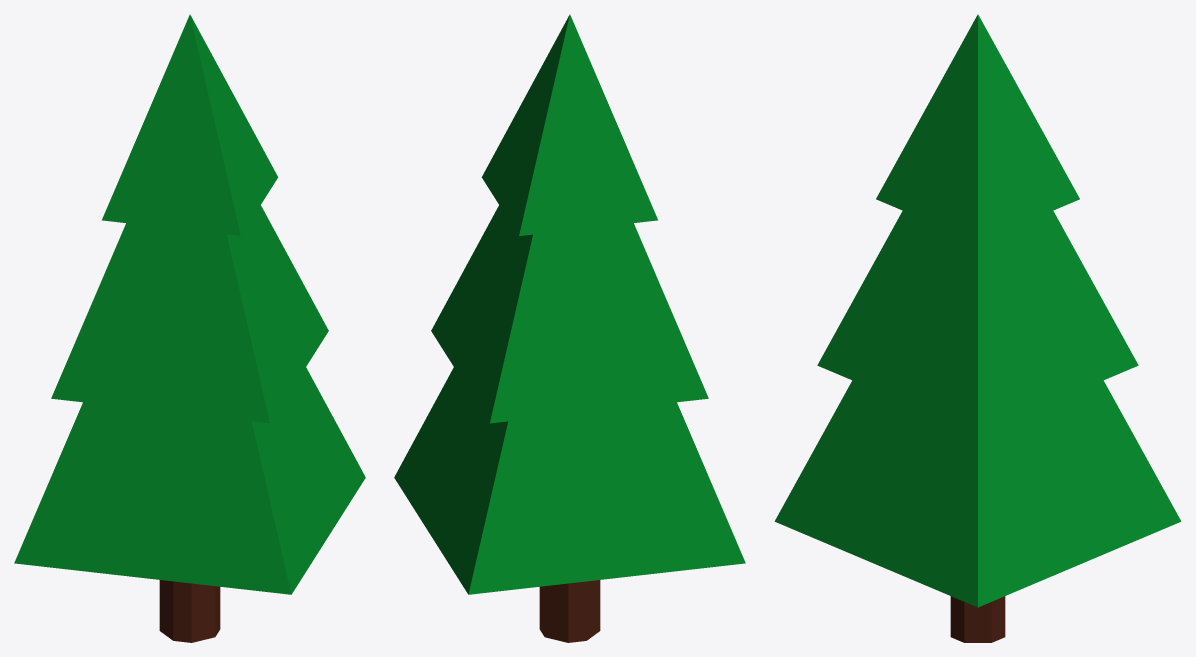
Rendered from Tree1.fbx.
3 renders of one model, left to right at view 1: azimuth 30°, elevation 25°; view 2: azimuth 150°, elevation 25°; view 3: azimuth 270°, elevation 25°, orthographic.
Parts seen in each view (by area): view 1: Tree1; view 2: Tree1; view 3: Tree1.
Part boxes in pixels (left/top/right/bottom): Tree1: left=14, top=14, right=365, bottom=642; Tree1: left=394, top=14, right=745, bottom=642; Tree1: left=774, top=14, right=1181, bottom=642.
Bounding box in the file's own units: 749 × 1253 × 749.
